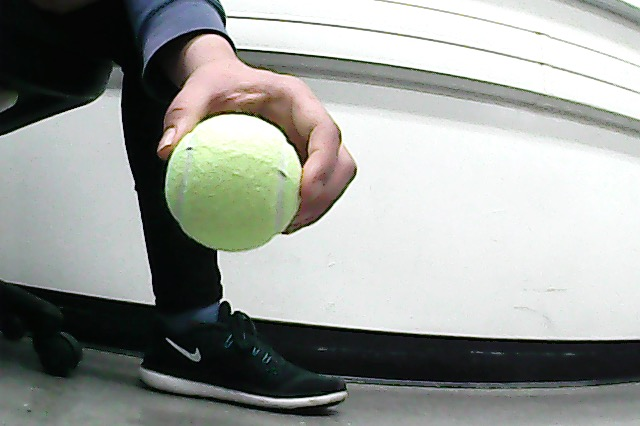ball: (166, 115, 302, 253)
